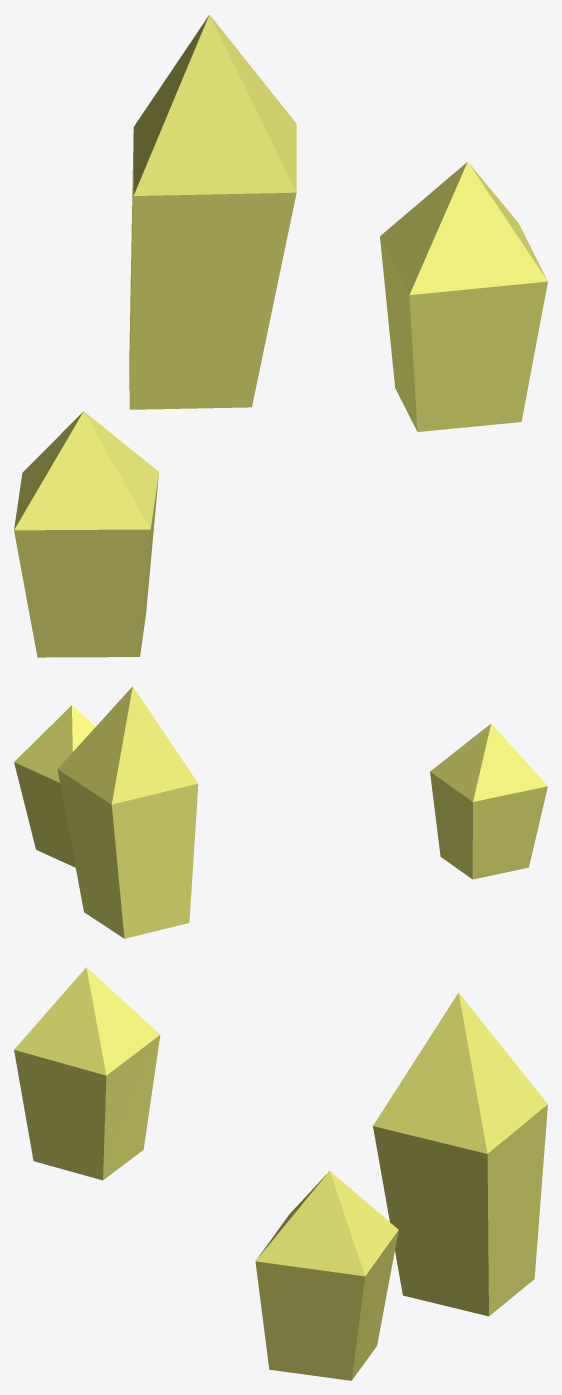
File: crystal_aer_2.obj
3 renders of one model, top to bottom at view 1: azimuth 30°, elevation 25°; view 2: azimuth 150°, elevation 25°; view 3: azimuth 270°, elevation 25°, orthographic. The views are drawn at different scales.
Visible parts, largest first — view 1: s016, s014, s015; view 2: s016, s015, s014; view 3: s016, s015, s014.
Part boxes in pixels (x1,y1,x2,y2): s016: (129,14,296,409); s014: (380,162,547,431); s015: (14,411,158,657); s016: (57,686,198,938); s015: (430,723,547,879); s014: (14,705,95,867); s016: (373,992,547,1316); s015: (14,967,160,1180); s014: (255,1171,398,1380).
Bounding box in the file's own units: 0.8279 × 0.4254 × 0.6865.
